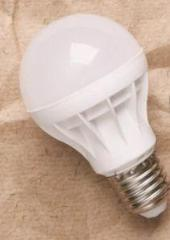lightbulb: (19, 13, 170, 219)
